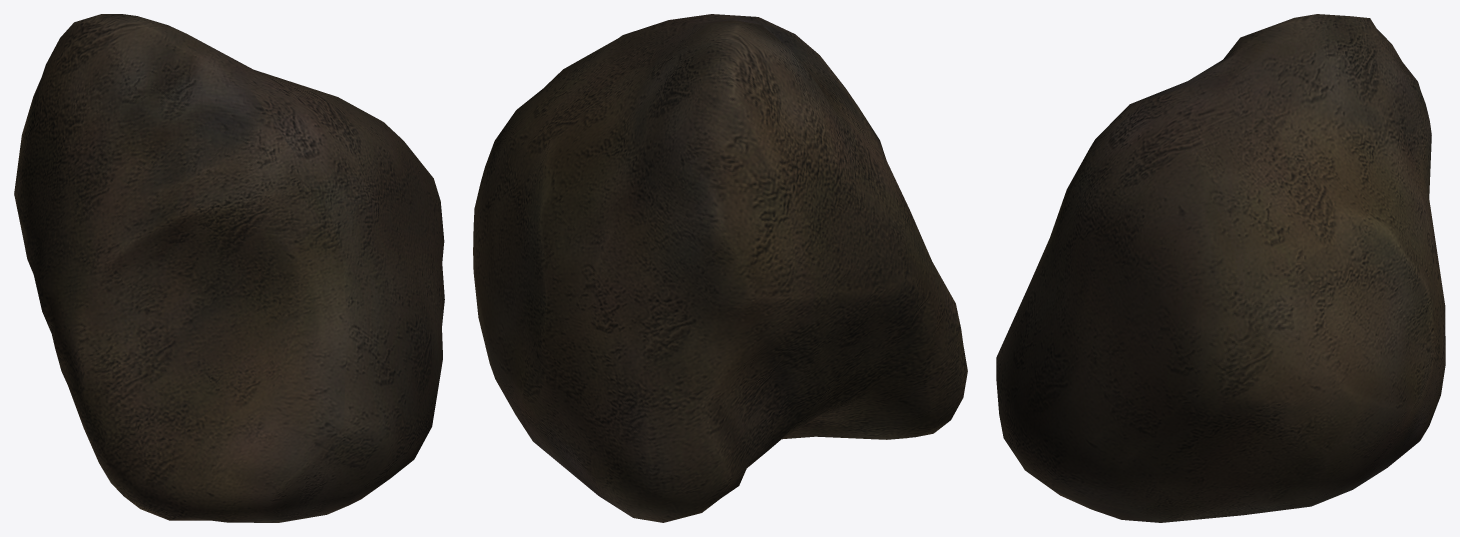
File: Asteroid.FBX
3 views of the same model, side by side, from view 1: azimuth 30°, elevation 25°; view 2: azimuth 150°, elevation 25°; view 3: azimuth 270°, elevation 25° (orthographic). The views are drawn at different scales.
Parts seen in each view (by area): view 1: Asteroid_lp; view 2: Asteroid_lp; view 3: Asteroid_lp.
Boxes of the visible parts, bbox=[...] form: Asteroid_lp: bbox=[14, 14, 444, 522]; Asteroid_lp: bbox=[473, 14, 967, 522]; Asteroid_lp: bbox=[996, 14, 1445, 522].
Size of the model in its own units: 1.97 by 2.11 by 1.93.
Materials: 1 (1 with a texture image).
